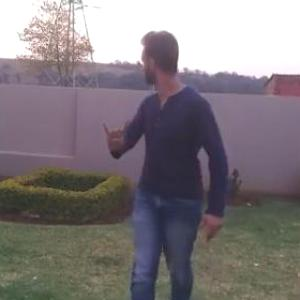takeoff-hand: (94, 110, 134, 158)
